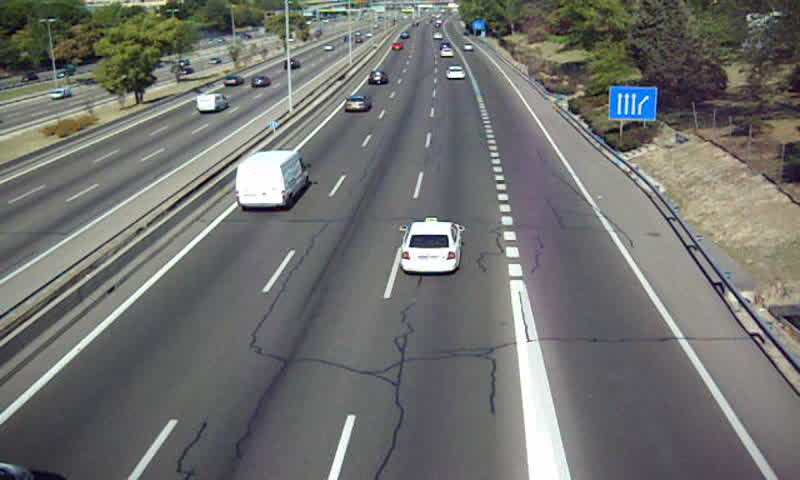car: (401, 221, 461, 273), (344, 94, 370, 115), (368, 70, 389, 87), (444, 66, 467, 81)
van: (235, 151, 308, 208)
